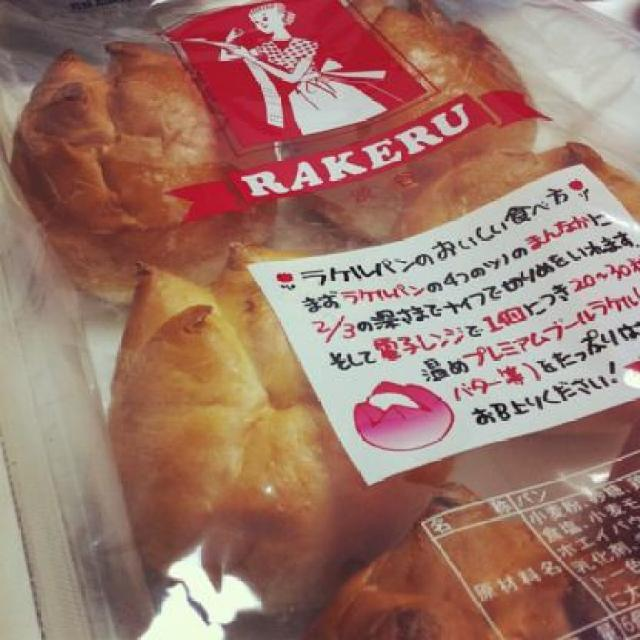Croissant: (13, 34, 389, 272)
